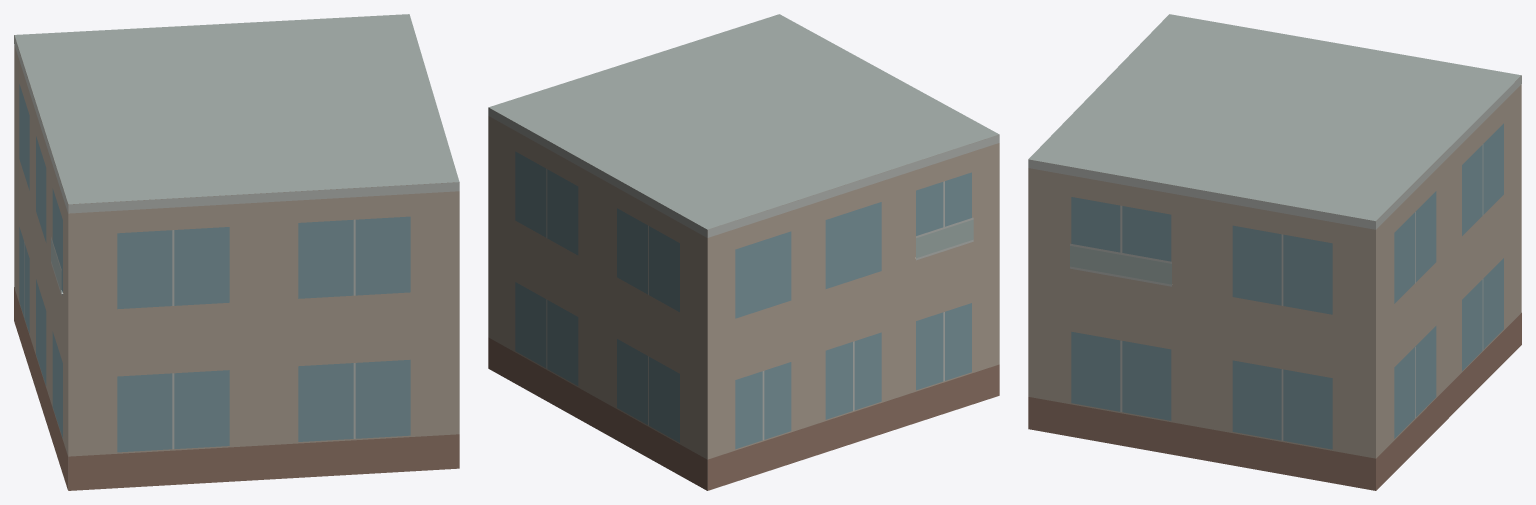
File: survey-upis-32909236.glb
3 views of the same model, side by side, from view 1: azimuth 30°, elevation 25°; view 2: azimuth 150°, elevation 25°; view 3: azimuth 270°, elevation 25° (orthographic). The views are drawn at different scales.
Visible parts, largest first — view 1: survey-upis-32909236.tmp; view 2: survey-upis-32909236.tmp; view 3: survey-upis-32909236.tmp.
Boxes of the visible parts, x1,y1,x2,y2 form: survey-upis-32909236.tmp: (14, 14, 459, 490); survey-upis-32909236.tmp: (488, 14, 999, 490); survey-upis-32909236.tmp: (1028, 14, 1521, 490).
Bounding box in the file's own units: 12.53 × 7.6 × 12.61.
